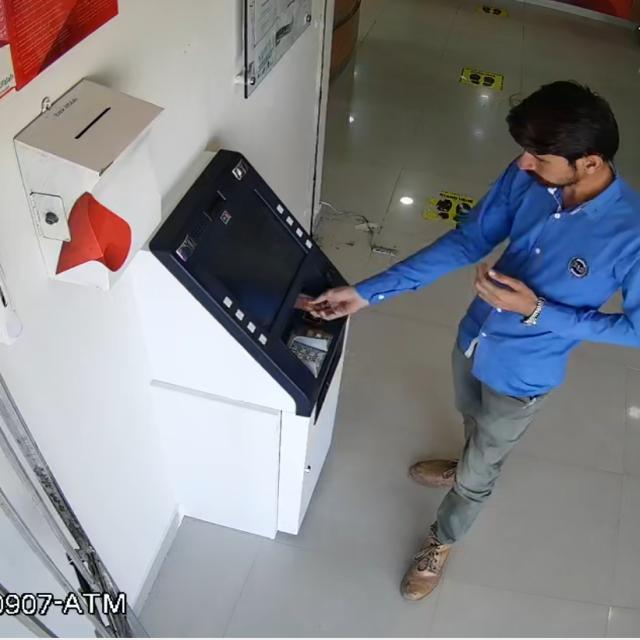atm-card: (281, 285, 331, 320)
